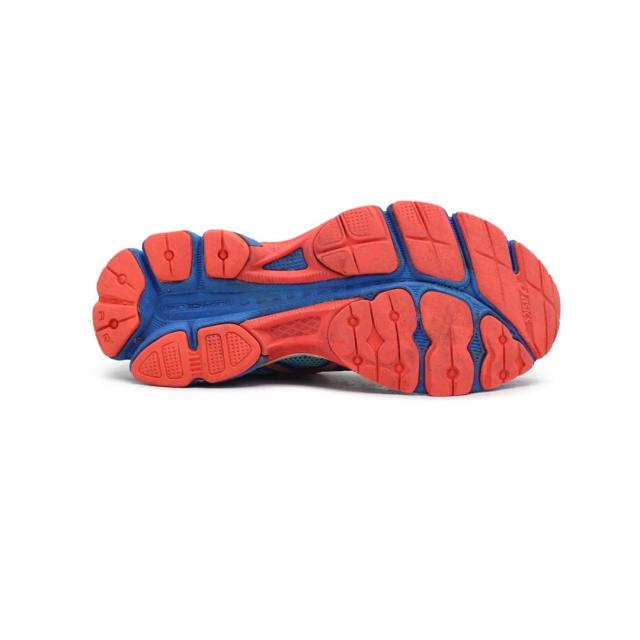outersole: (93, 200, 559, 397)
